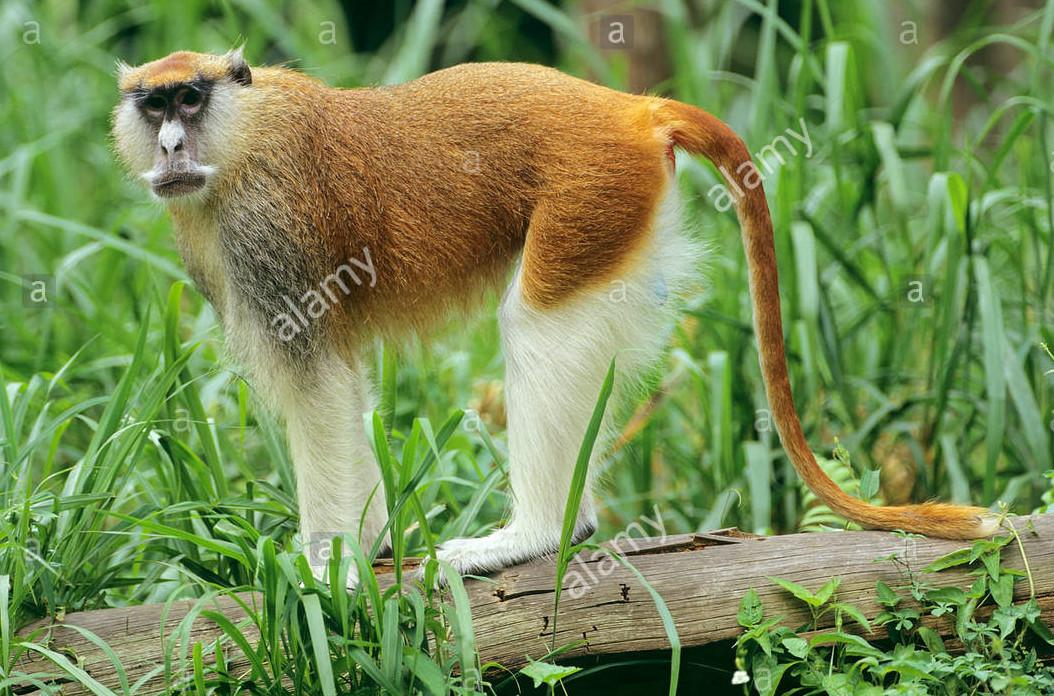monkey: (107, 50, 816, 578)
